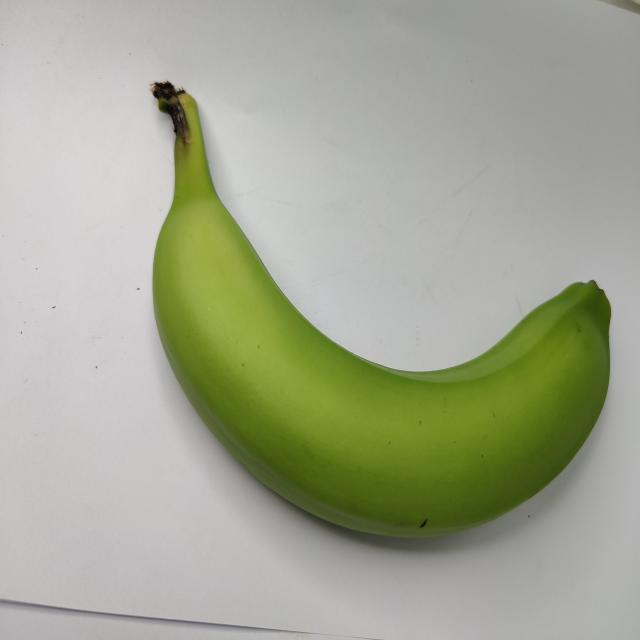raw: (128, 59, 626, 576)
